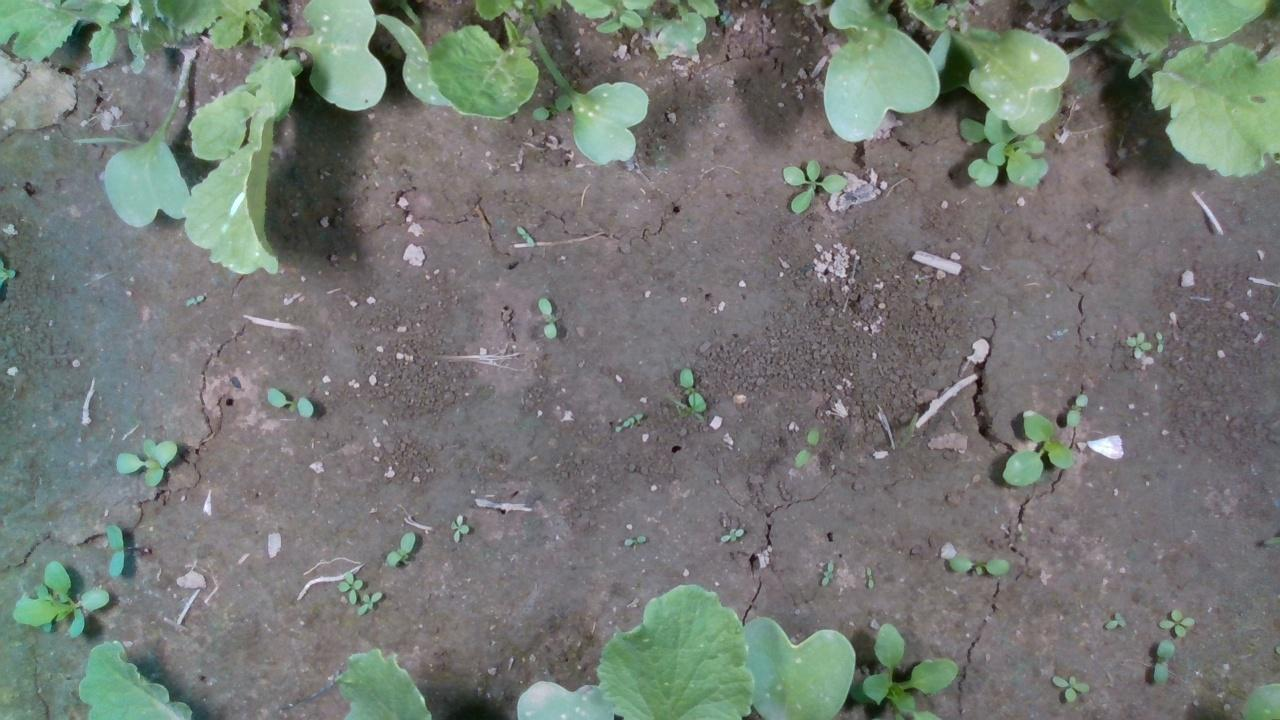weed: (778, 156, 850, 212), (111, 436, 179, 488), (263, 385, 315, 417), (677, 365, 706, 415), (946, 553, 1011, 574), (383, 528, 416, 568), (1154, 605, 1195, 637), (102, 524, 125, 580), (1048, 672, 1092, 701), (1151, 639, 1174, 687), (535, 295, 559, 340), (792, 428, 819, 467), (1063, 391, 1088, 429), (1121, 329, 1151, 358), (448, 512, 470, 543), (1101, 609, 1126, 631), (715, 526, 745, 543), (818, 560, 834, 584), (861, 563, 875, 588), (621, 534, 645, 547), (1154, 329, 1164, 353)
